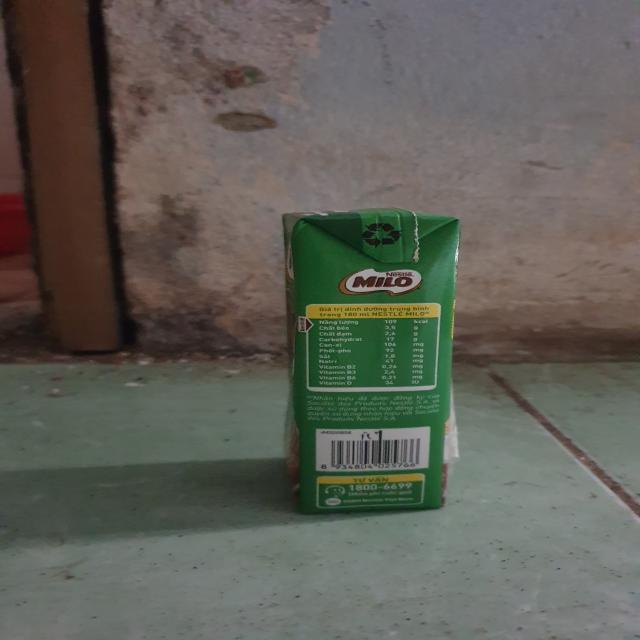Milo: (279, 207, 465, 518)
